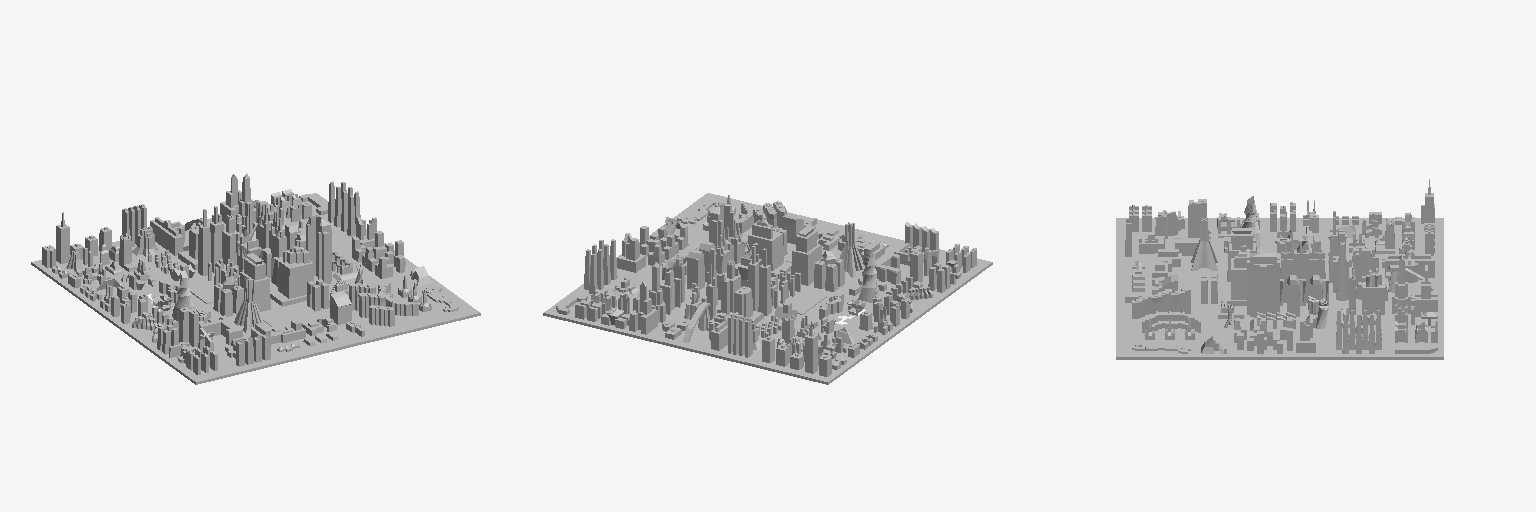
The model's file is city.obj.
3 views of the same model, side by side, from view 1: azimuth 30°, elevation 25°; view 2: azimuth 150°, elevation 25°; view 3: azimuth 270°, elevation 25° (orthographic).
Visible parts, largest first — view 1: sub02_Material_sub02_Material.004_Material.005; view 2: sub02_Material_sub02_Material.004_Material.005; view 3: sub02_Material_sub02_Material.004_Material.005.
Boxes of the visible parts, x1=… form: sub02_Material_sub02_Material.004_Material.005: x1=31, y1=173, x2=480, y2=384; sub02_Material_sub02_Material.004_Material.005: x1=543, y1=193, x2=992, y2=384; sub02_Material_sub02_Material.004_Material.005: x1=1116, y1=179, x2=1443, y2=359.
Bounding box in the file's own units: 200 × 46.13 × 200.